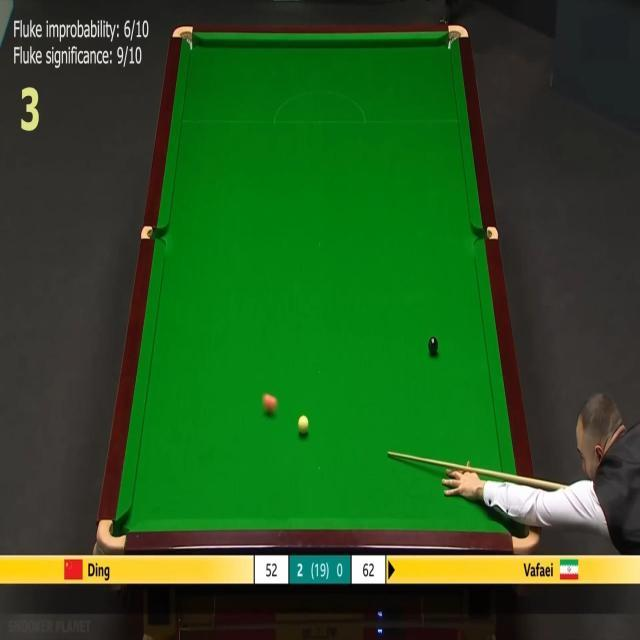Ball: (262, 393, 277, 411), (298, 415, 309, 434), (428, 336, 438, 354)
